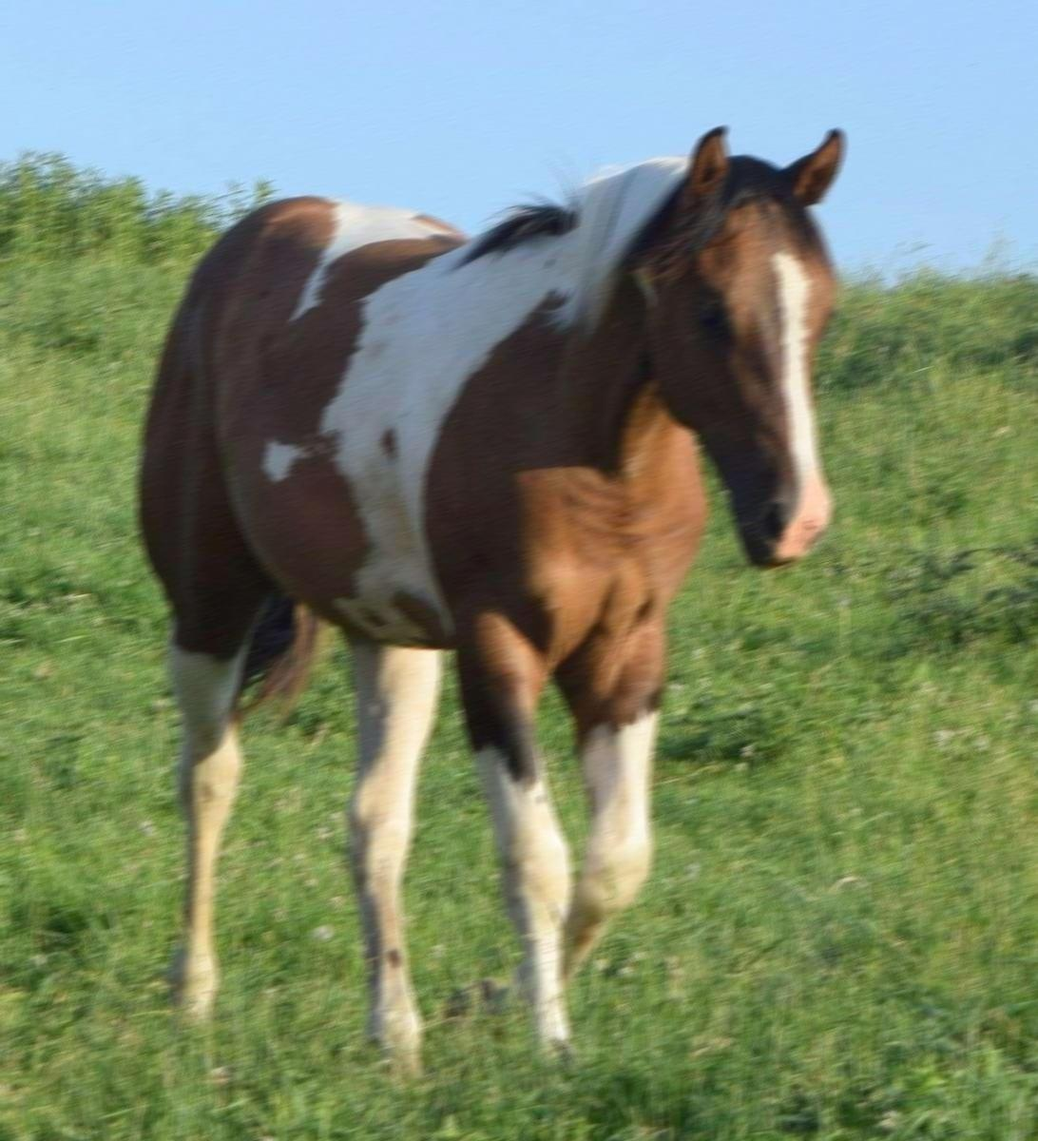horse: (117, 93, 863, 1084)
